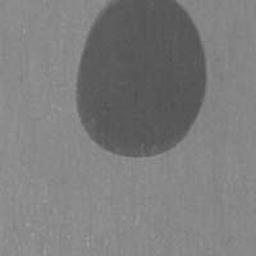Oil spot: (74, 0, 209, 160)
